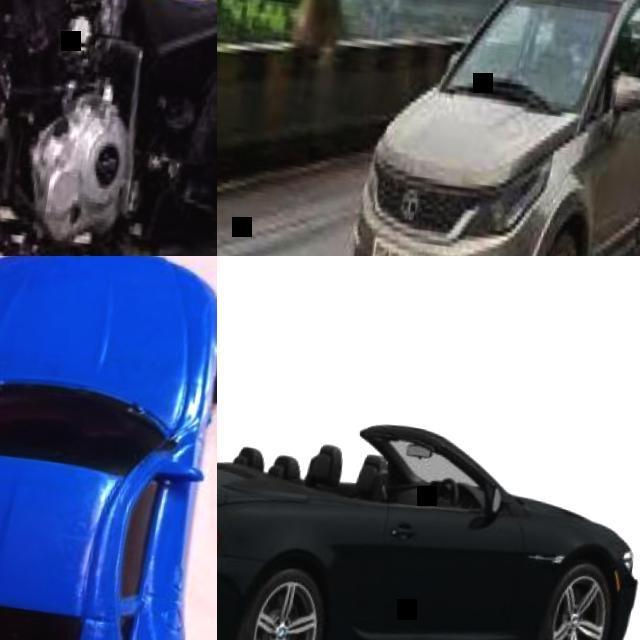car: (354, 0, 632, 499), (62, 0, 218, 242)
